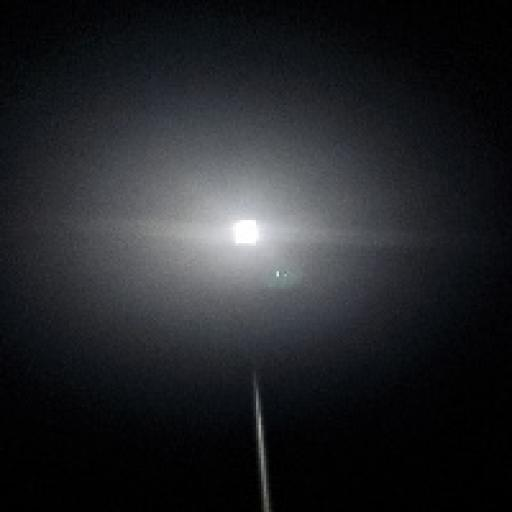Working: (223, 210, 269, 257)
